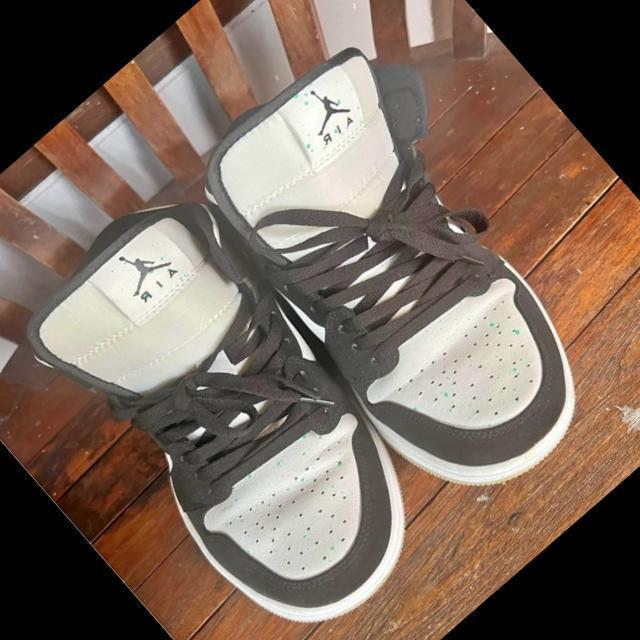nike fake jordan 1: (160, 7, 640, 537), (0, 171, 470, 640)
